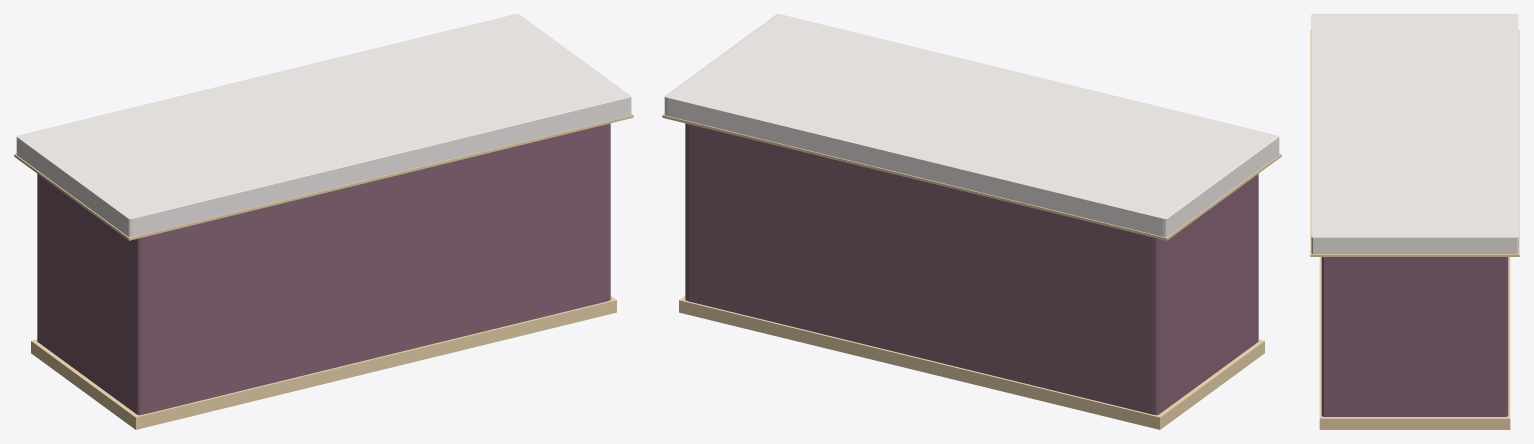
Rendered from concierge-desk.glb.
The picture shows the model from 3 angles, left to right: view 1: azimuth 30°, elevation 25°; view 2: azimuth 150°, elevation 25°; view 3: azimuth 270°, elevation 25°; orthographic projection. The views are drawn at different scales.
Parts seen in each view (by area): view 1: desk_body, desk_top, desk_kick, desk_top_trim; view 2: desk_body, desk_top, desk_kick, desk_top_trim; view 3: desk_top, desk_body, desk_kick, desk_top_trim.
Part boxes in pixels (x1,y1,x2,y2): desk_body: (37,123,610,415); desk_top: (16,14,631,237); desk_kick: (31,296,616,429); desk_top_trim: (14,113,633,240); desk_body: (685,123,1258,415); desk_top: (664,14,1279,237); desk_kick: (679,296,1264,429); desk_top_trim: (662,113,1281,240); desk_top: (1311,14,1518,253); desk_body: (1321,257,1508,416); desk_kick: (1319,257,1510,429); desk_top_trim: (1310,30,1519,256).
Bounding box in the file's own units: 2.56 × 1.05 × 1.01.
